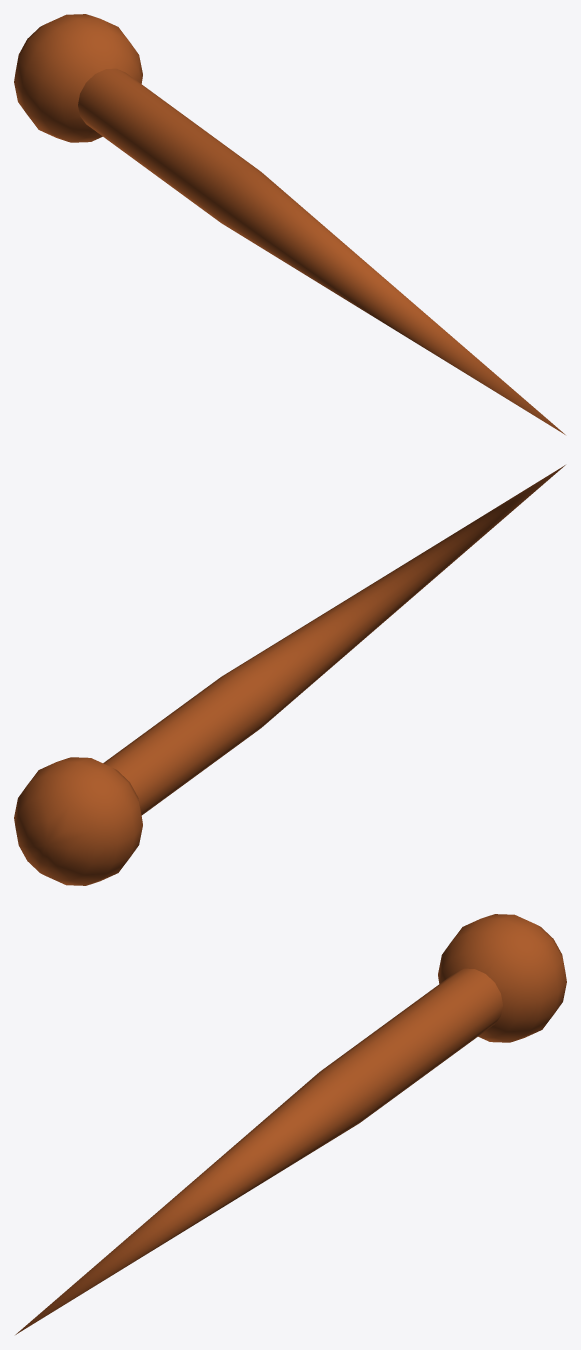
The model's file is Rover_LowerLeg.obj.
3 views of the same model, one above another, from view 1: azimuth 30°, elevation 25°; view 2: azimuth 150°, elevation 25°; view 3: azimuth 330°, elevation 25° (orthographic).
Visible parts, largest first — view 1: Lower Leg; view 2: Lower Leg; view 3: Lower Leg.
Part boxes in pixels (box(x1,y1,x2,y2)): Lower Leg: box(14, 14, 565, 434); Lower Leg: box(14, 465, 565, 885); Lower Leg: box(15, 914, 566, 1334).
Size of the model in its own units: 0.4 by 0.4 by 3.2.
